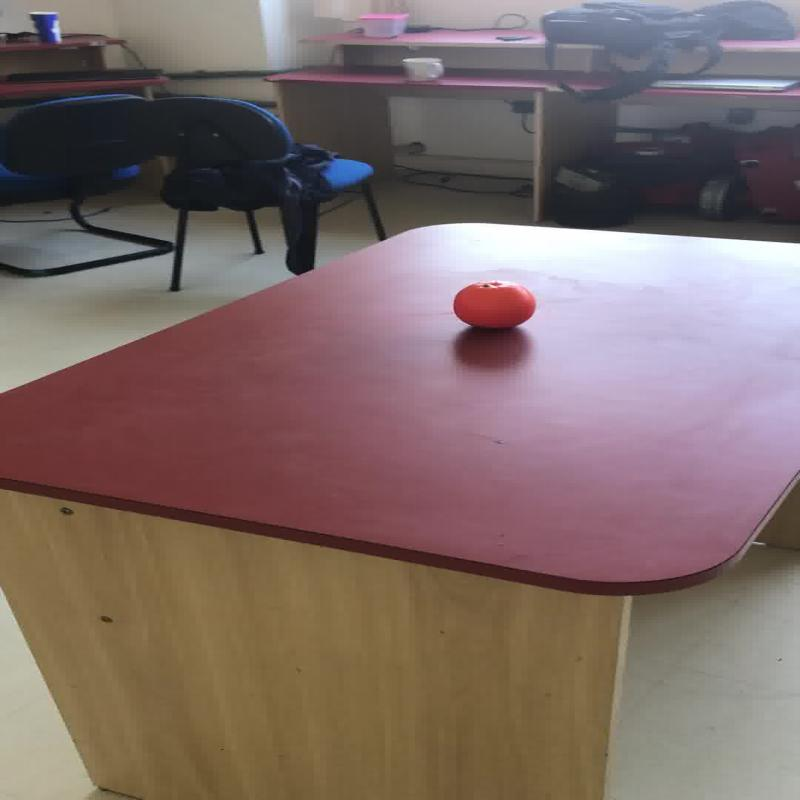orange: (452, 279, 535, 329)
